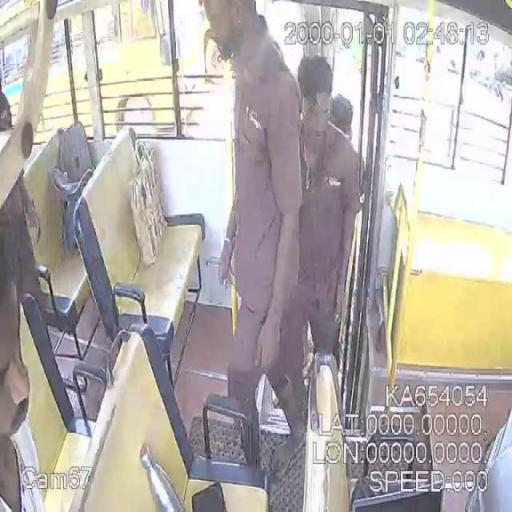persona: (198, 1, 306, 468), (274, 54, 364, 436), (0, 226, 54, 512)
